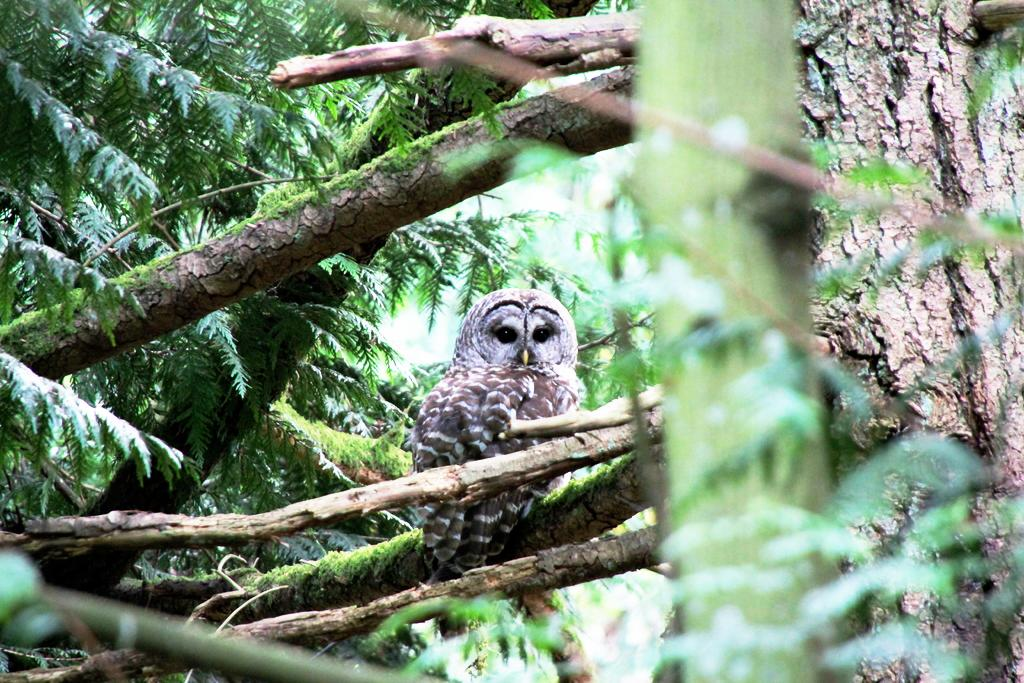Owl: (406, 290, 583, 574)
